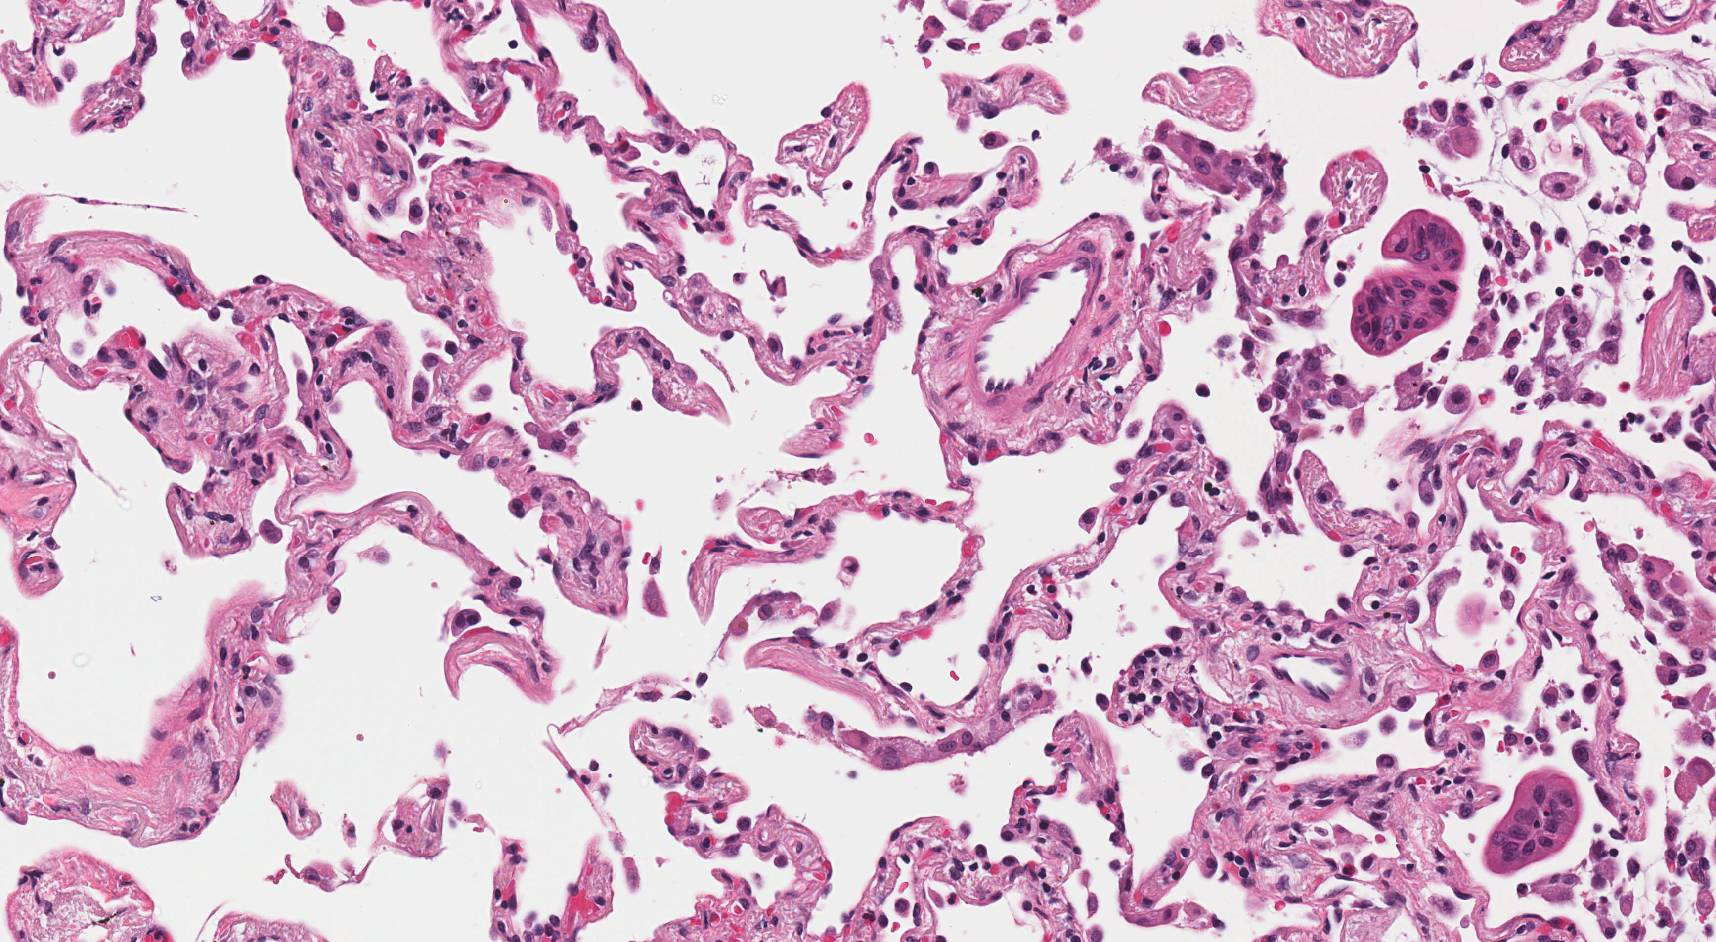stas: (1349, 210, 1463, 357), (1483, 770, 1579, 876)
